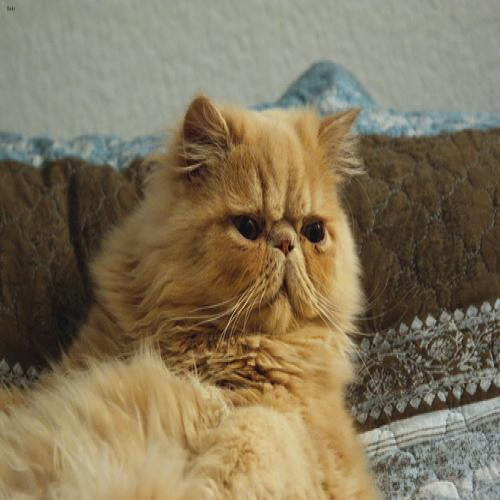persian: (154, 97, 375, 354)
